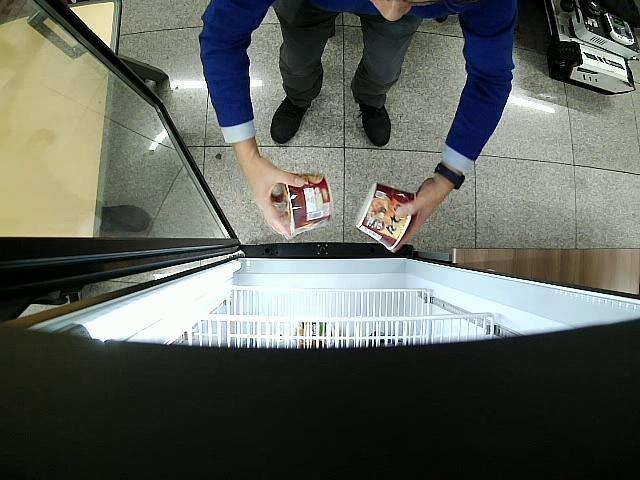05_nuguri_L: (356, 182, 416, 252), (272, 173, 332, 237)
